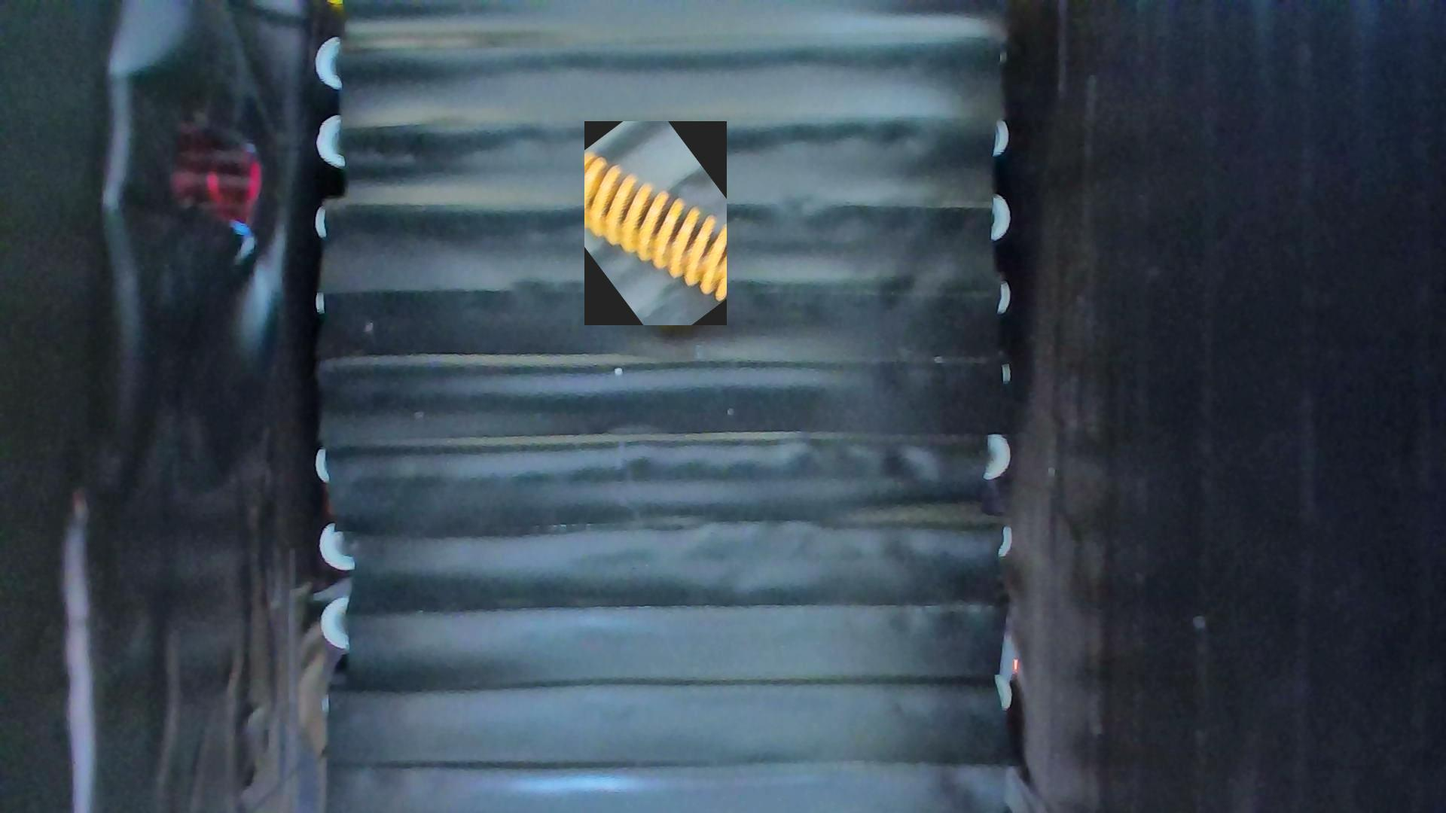spring: (584, 121, 727, 325)
